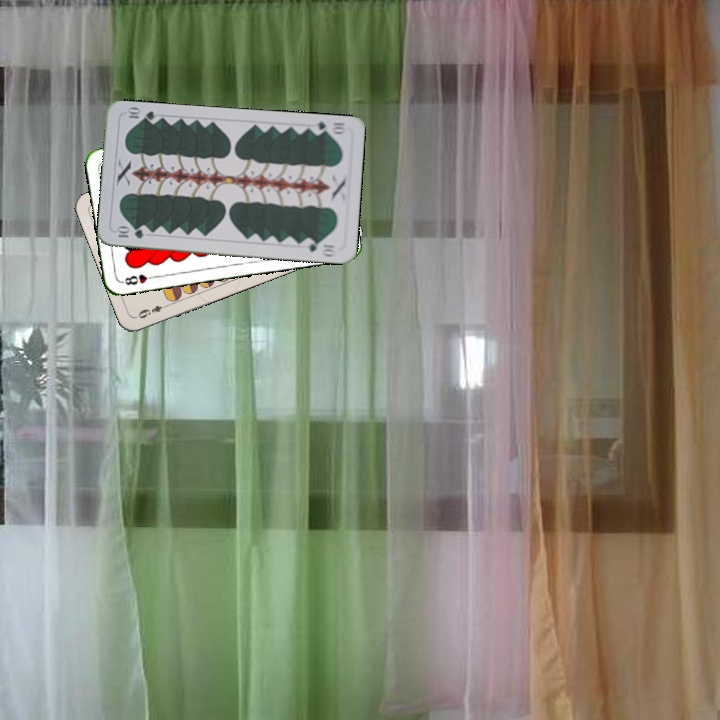E9: (132, 300, 171, 321)
G10: (308, 118, 349, 138), (112, 224, 146, 241)
H8: (118, 270, 158, 288)
